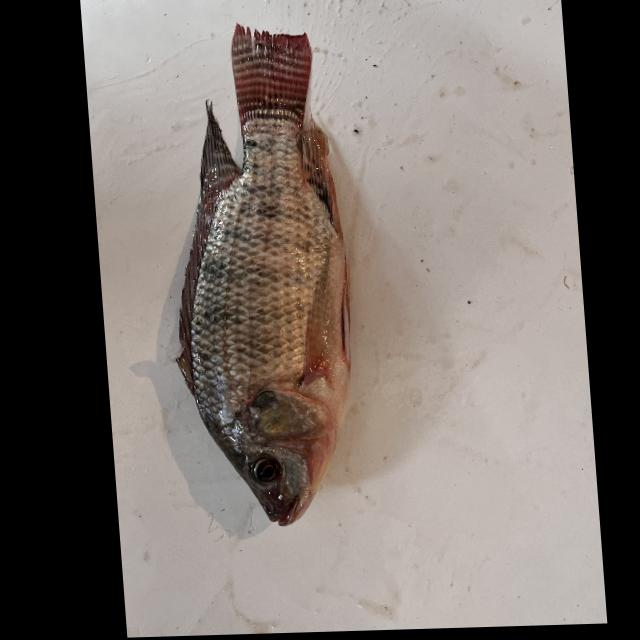Tilapia: (149, 21, 373, 529)
